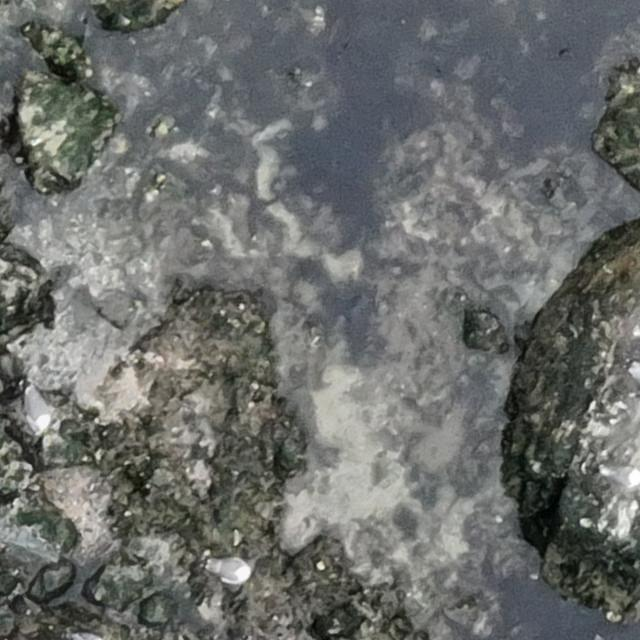umineko: (24, 381, 52, 432), (208, 559, 252, 583), (608, 466, 638, 486)
